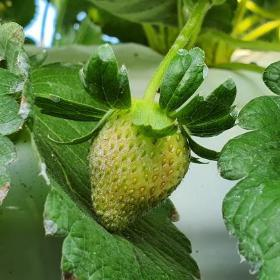Powdery Mildew Fruit: (88, 120, 155, 231)
